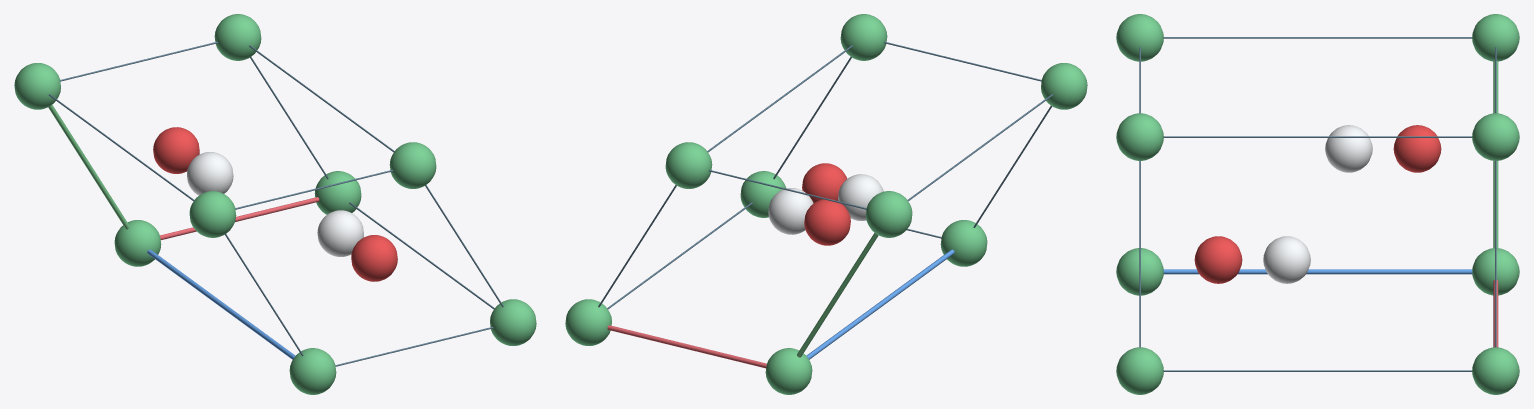
Rendered from chat-brucite.glb.
3 views of the same model, side by side, from view 1: azimuth 30°, elevation 25°; view 2: azimuth 150°, elevation 25°; view 3: azimuth 270°, elevation 25° (orthographic).
Visible parts, largest first — view 1: Mg · Mg · 1 (×8), Ô mạng và các trục a, b, c, O · O · 1 (×2), H · H · 1 (×2); view 2: Mg · Mg · 1 (×8), Ô mạng và các trục a, b, c, O · O · 1 (×2), H · H · 1 (×2); view 3: Mg · Mg · 1 (×8), Ô mạng và các trục a, b, c, O · O · 1 (×2), H · H · 1 (×2).
Part boxes in pixels (left/top/right/bottom): Mg · Mg · 1 (×8): left=14, top=14, right=536, bottom=394; Ô mạng và các trục a, b, c: left=48, top=41, right=503, bottom=366; O · O · 1 (×2): left=153, top=127, right=397, bottom=281; H · H · 1 (×2): left=187, top=152, right=363, bottom=256; Mg · Mg · 1 (×8): left=565, top=14, right=1087, bottom=394; Ô mạng và các trục a, b, c: left=598, top=41, right=1052, bottom=368; O · O · 1 (×2): left=802, top=163, right=850, bottom=245; H · H · 1 (×2): left=768, top=174, right=883, bottom=234; Mg · Mg · 1 (×8): left=1116, top=14, right=1519, bottom=394; Ô mạng và các trục a, b, c: left=1139, top=37, right=1498, bottom=371; O · O · 1 (×2): left=1194, top=125, right=1441, bottom=283; H · H · 1 (×2): left=1263, top=125, right=1372, bottom=283.
Size of the model in its own units: 5.36 by 3.37 by 5.41.
